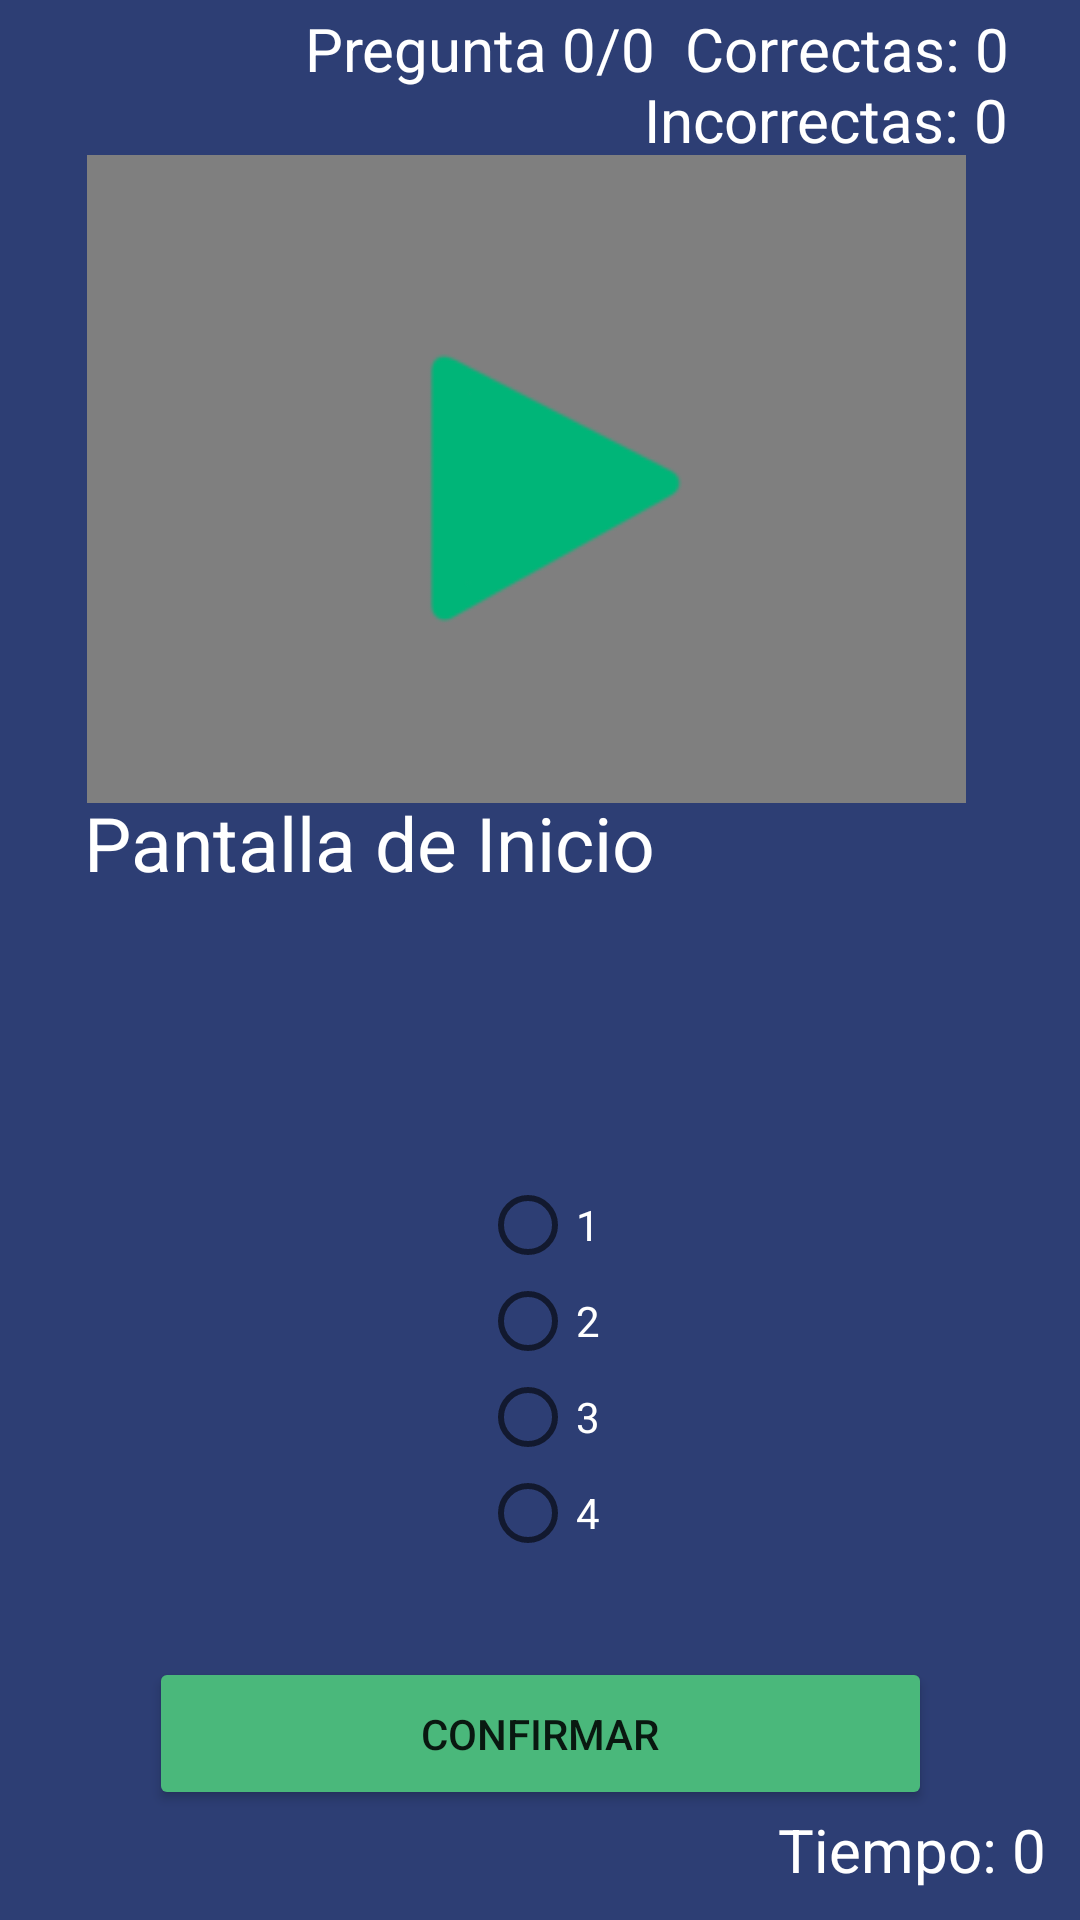

Screen size 1080 x 1920. Icon name, then its center in pixels as (x,y):
play: (555,488)
